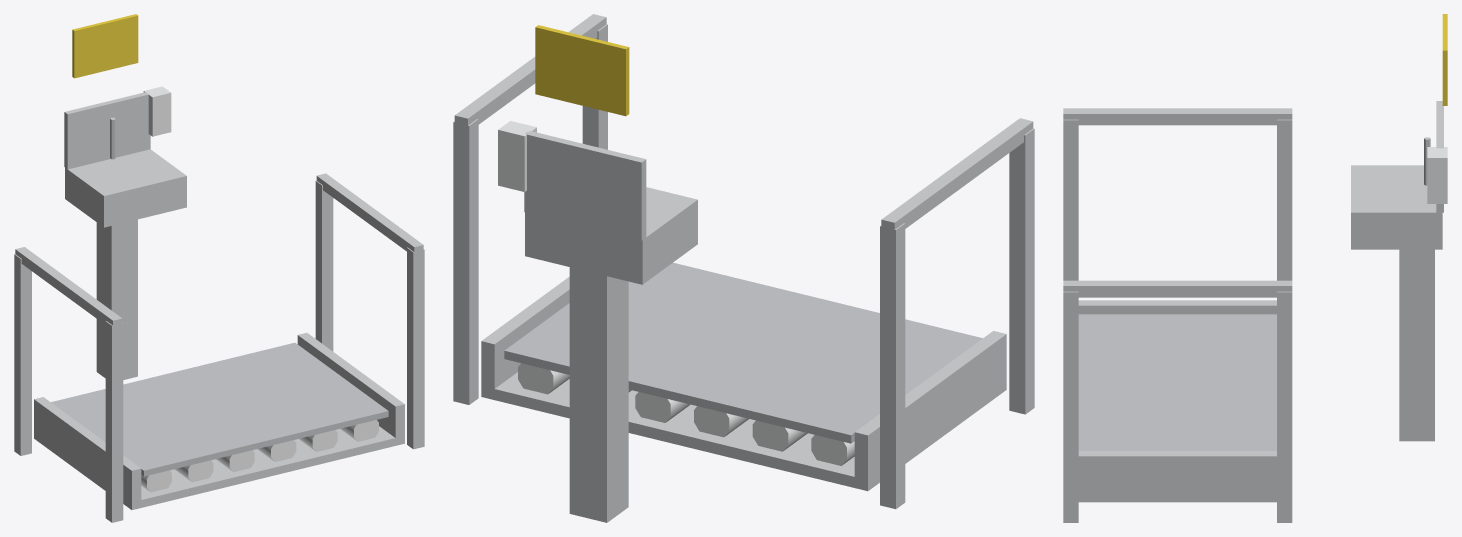
The model's file is SM_BOOT_WASH.fbx.
The picture shows the model from 3 angles, left to right: view 1: azimuth 30°, elevation 25°; view 2: azimuth 150°, elevation 25°; view 3: azimuth 270°, elevation 25°; orthographic projection. The views are drawn at different scales.
Parts seen in each view (by area): view 1: SM_BOOT_WASH; view 2: SM_BOOT_WASH; view 3: SM_BOOT_WASH.
Part boxes in pixels (box(x1,y1,x2,y2)): SM_BOOT_WASH: box(14, 14, 424, 522); SM_BOOT_WASH: box(453, 14, 1034, 522); SM_BOOT_WASH: box(1063, 14, 1447, 522).
Bounding box in the file's own units: 166 × 174 × 151.
